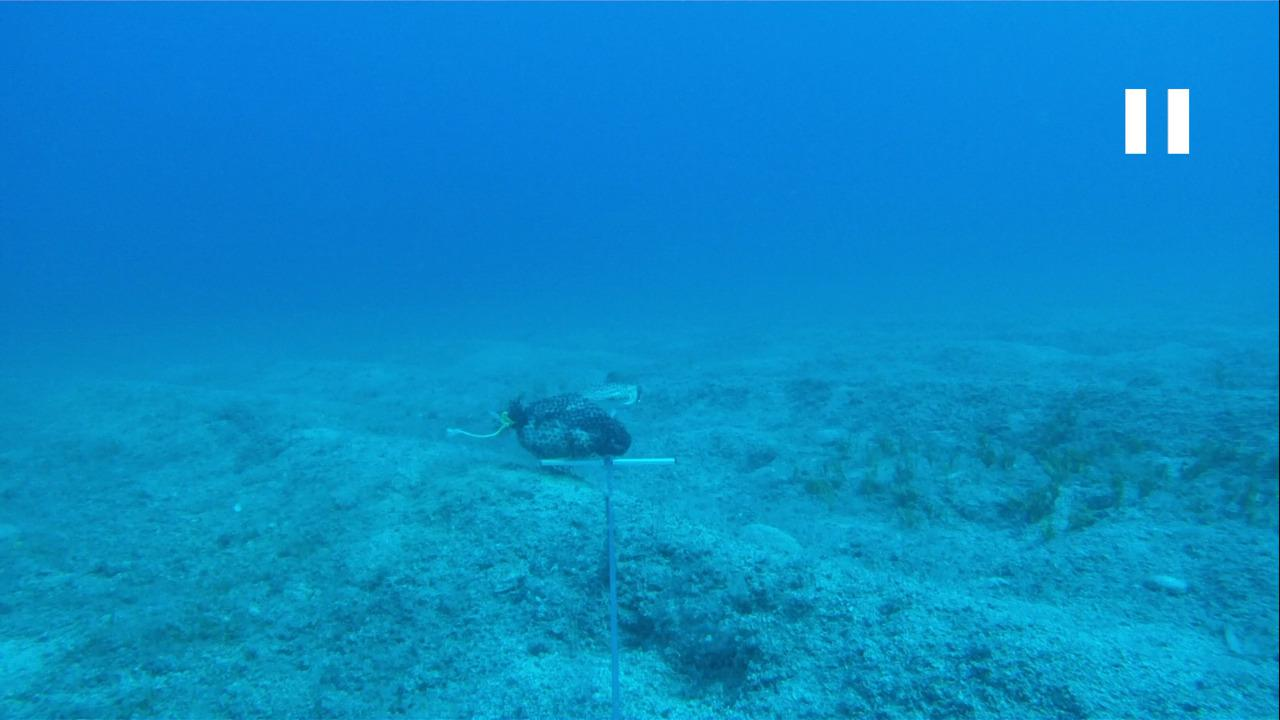dactylopterus: (562, 370, 647, 417)
